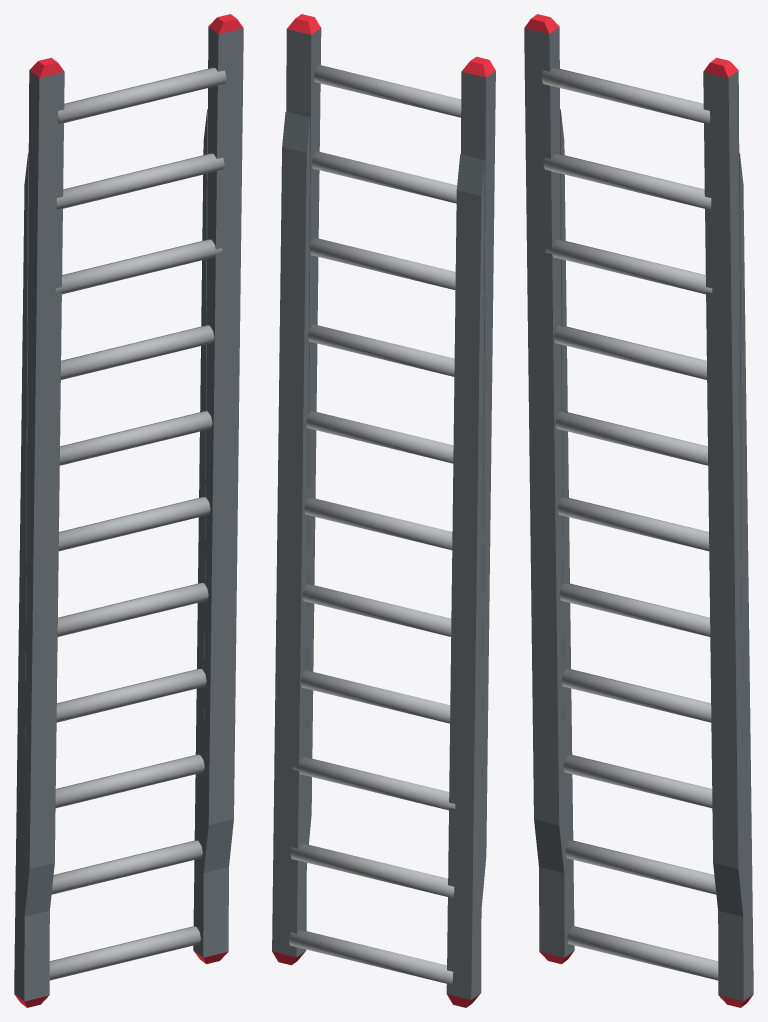
The model's file is Ladder.fbx.
3 views of the same model, side by side, from view 1: azimuth 30°, elevation 25°; view 2: azimuth 150°, elevation 25°; view 3: azimuth 330°, elevation 25° (orthographic). The views are drawn at different scales.
Parts seen in each view (by area): view 1: Ladder; view 2: Ladder; view 3: Ladder.
Part boxes in pixels (box(x1,y1,x2,y2)): Ladder: box(14, 14, 243, 1007); Ladder: box(272, 14, 495, 1007); Ladder: box(524, 14, 753, 1007).
Bounding box in the file's own units: 80.81 × 361 × 19.8.
1 material, 1 textured.
